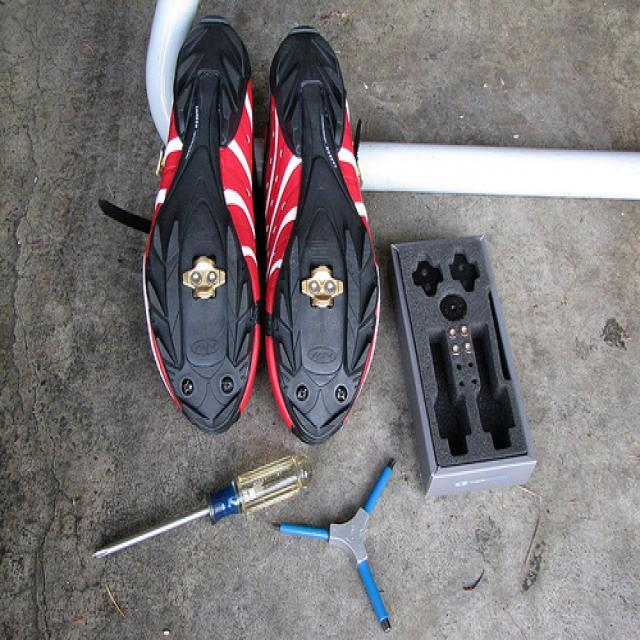screwdriver: (85, 444, 318, 576)
